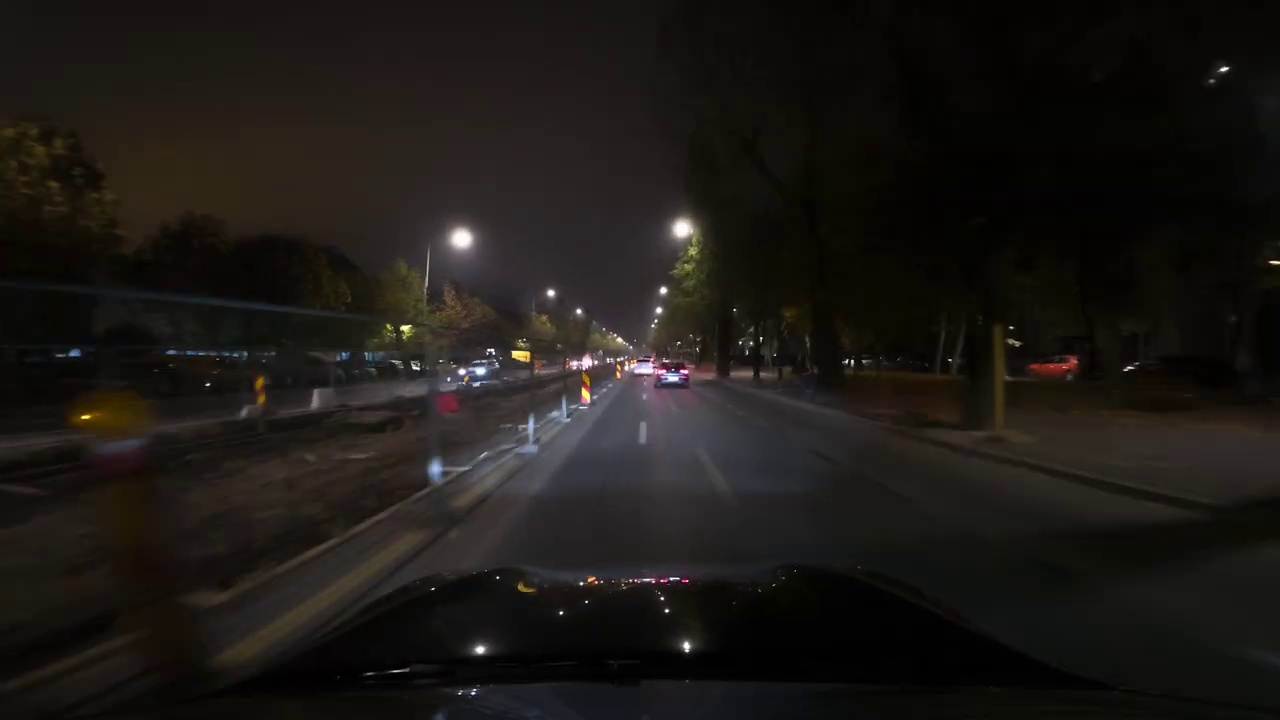acesa: (447, 225, 476, 253), (669, 216, 696, 243)
